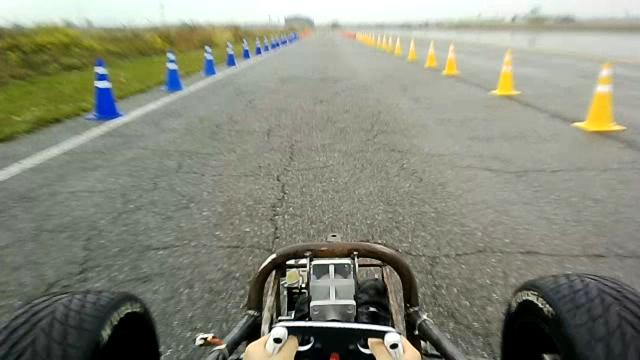blue cone: (85, 57, 123, 121), (162, 48, 184, 92), (202, 43, 216, 76), (165, 68, 182, 92), (225, 41, 237, 67), (242, 38, 250, 59), (226, 52, 237, 67), (262, 36, 270, 52), (255, 37, 262, 55), (95, 57, 105, 67)
yellow cone: (570, 61, 627, 133), (489, 48, 521, 96), (495, 68, 519, 96), (442, 43, 459, 76), (424, 39, 438, 69), (407, 37, 417, 62), (502, 48, 513, 70), (394, 35, 402, 56), (386, 35, 394, 53), (380, 34, 388, 51)
